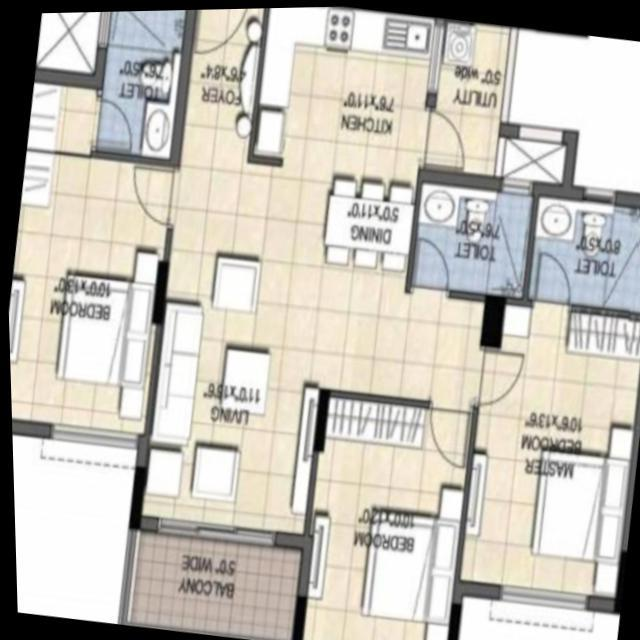Balcony-Sitout: (112, 518, 306, 640)
Bedroom: (7, 147, 178, 450), (289, 387, 478, 640)
Bedroom with Toilet: (458, 184, 640, 614)
Dining: (317, 172, 417, 275)
Enterance-Foyer: (185, 7, 259, 111)
Kitchen: (243, 5, 438, 181)
Living: (129, 246, 334, 550)
Toilet: (406, 166, 536, 302), (91, 8, 198, 169), (521, 182, 640, 315)
Utility: (417, 17, 516, 190)
